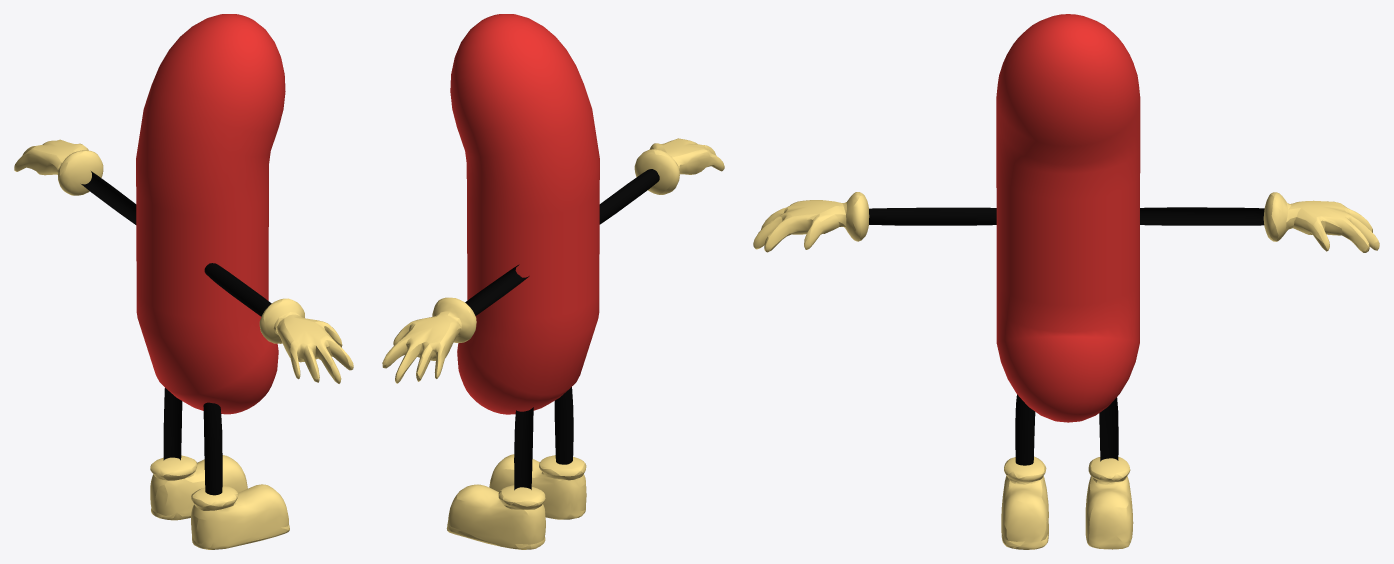
File: ChorizoModel.fbx
3 renders of one model, left to right at view 1: azimuth 30°, elevation 25°; view 2: azimuth 150°, elevation 25°; view 3: azimuth 270°, elevation 25°, orthographic. The views are drawn at different scales.
Visible parts, largest first — view 1: Esfera, Cubo.004; view 2: Esfera, Cubo.004; view 3: Esfera, Cubo.004.
Boxes of the visible parts, x1,y1,x2,y2 form: Esfera: (136, 14, 285, 414); Cubo.004: (14, 139, 353, 549); Esfera: (450, 14, 599, 414); Cubo.004: (382, 138, 724, 549); Esfera: (996, 14, 1140, 422); Cubo.004: (753, 192, 1379, 549).
Bounding box in the file's own units: 337 × 1244 × 1366.
